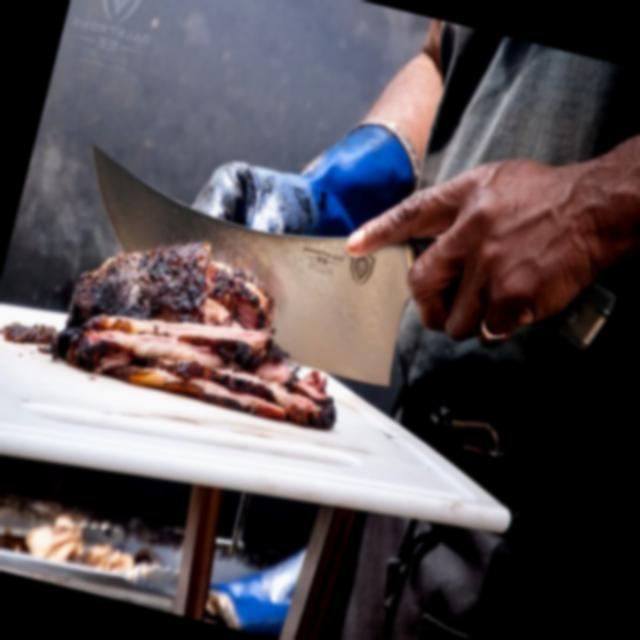cleaver: (48, 43, 640, 434)
